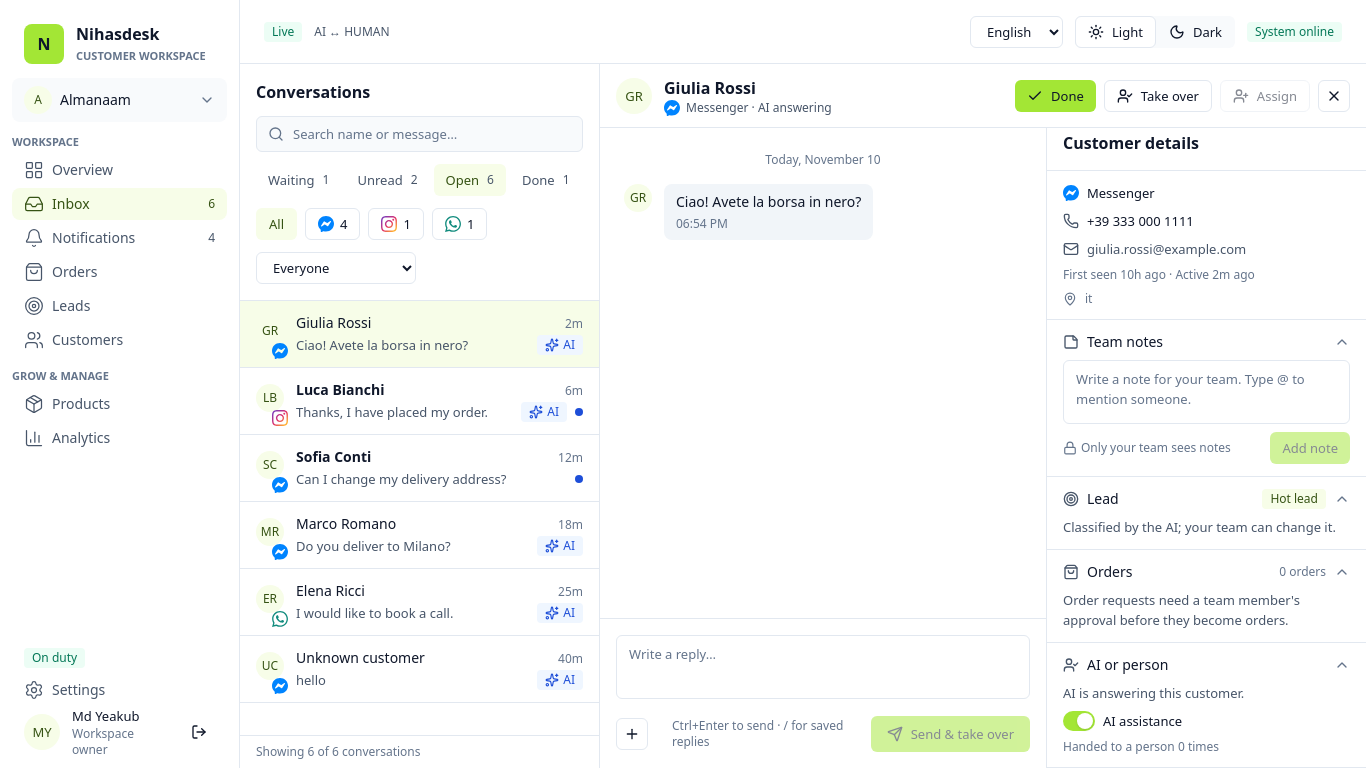
Test: Inbox › turning AI assistance off hands the conversation to the team
(page scrolled)
Click the switch named "AI assistance" at coordinates (1079, 721), box [1063, 711, 1095, 731]
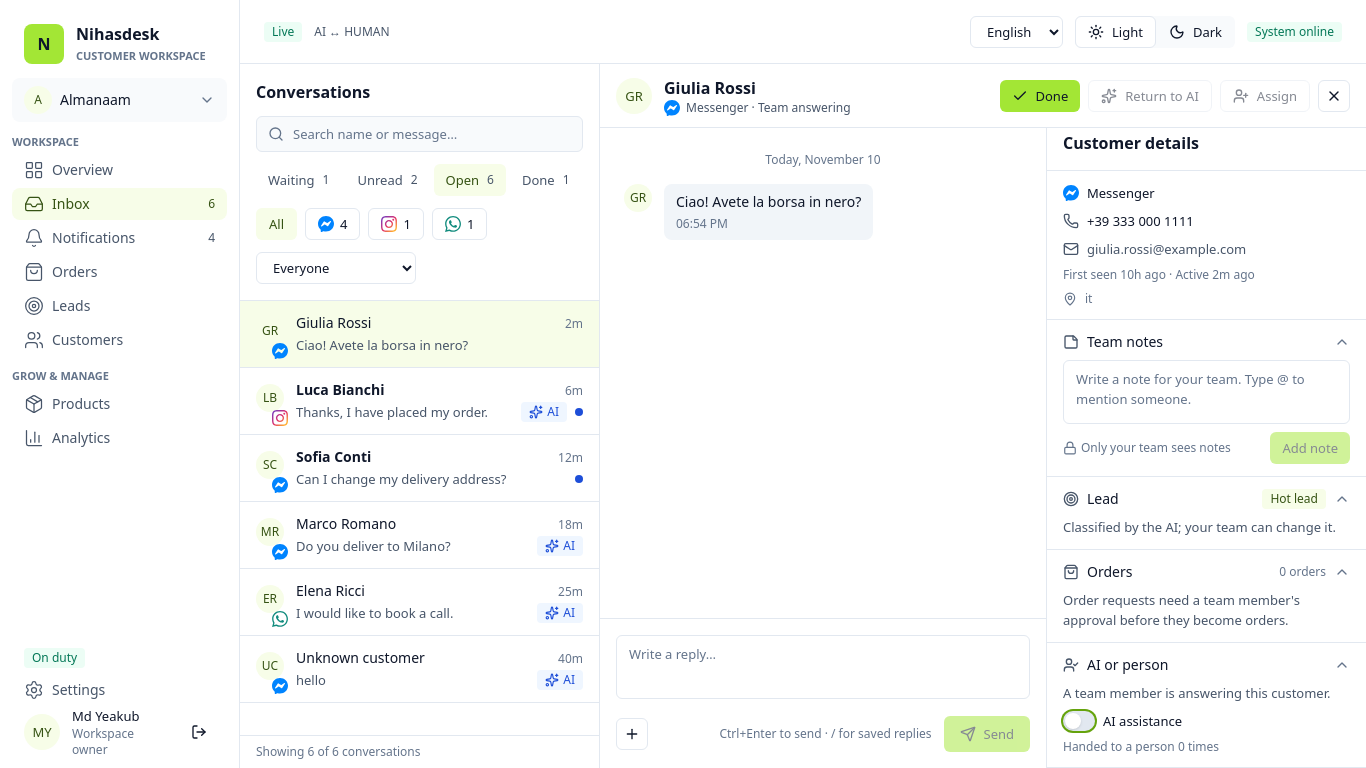
Now the text "Messenger · Team answering" is shown, box [664, 98, 850, 116]
Now the button "Return to AI" is disabled, box [1088, 80, 1212, 112]
